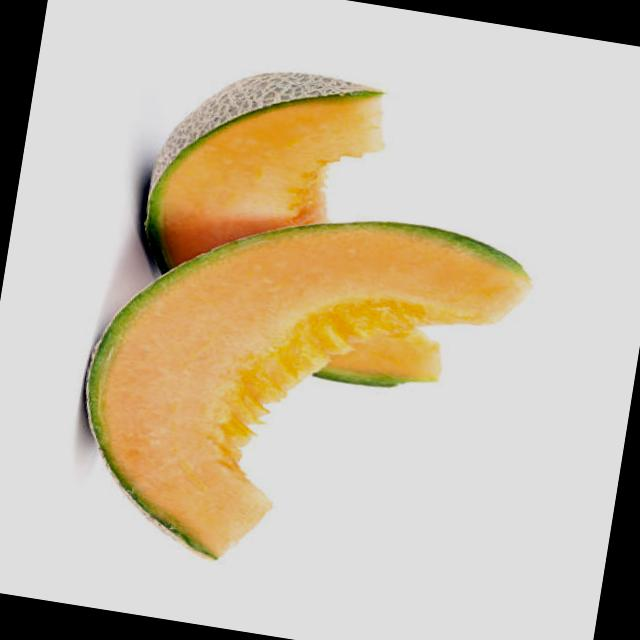cantaloupe: (58, 177, 538, 604)
